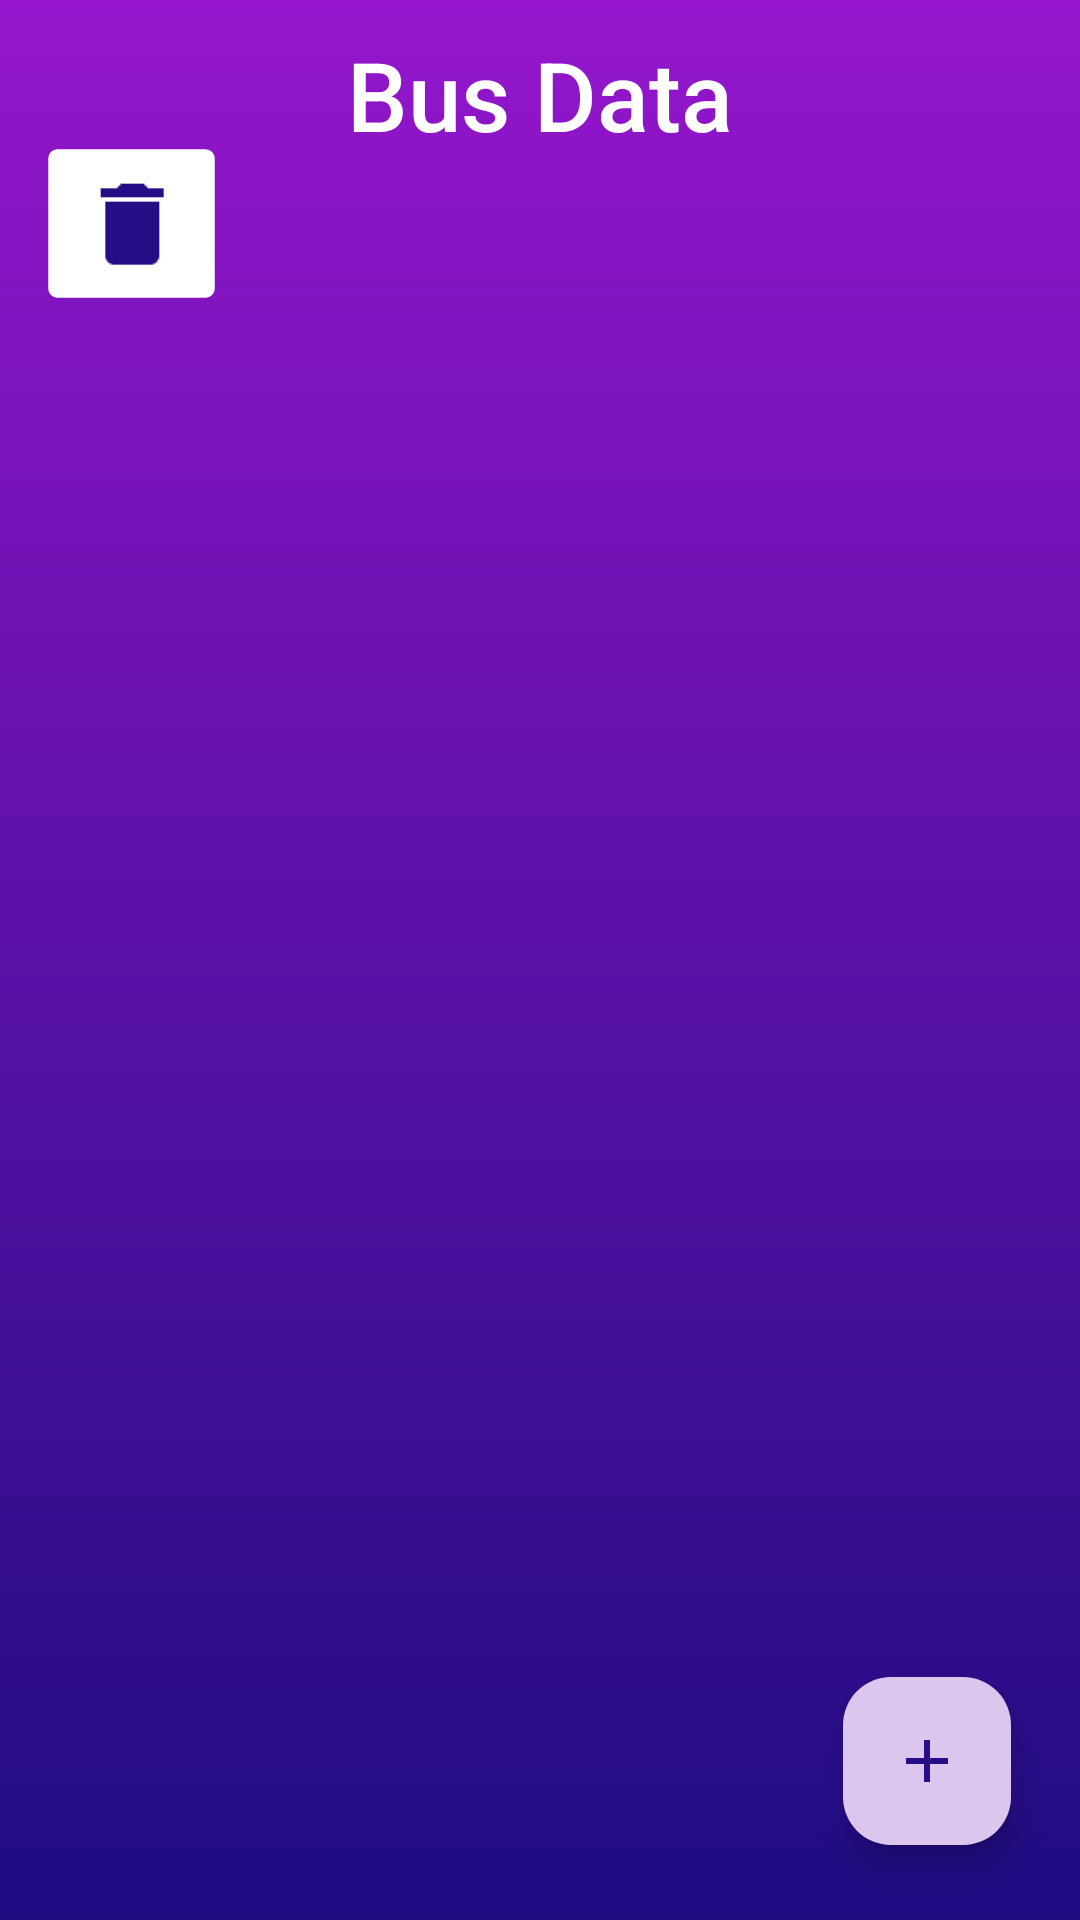

Icons on this 1080px×1920px Android screen, each with the point to tap as (x=x, y=y):
add: (x=927, y=1761)
